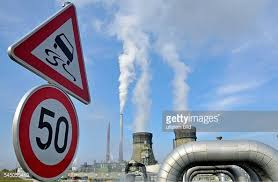Speed_limit_50km: (16, 85, 79, 180)
